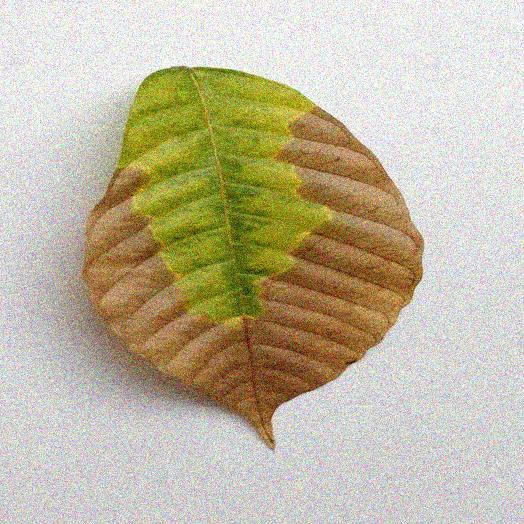Potassium: (84, 67, 422, 446)
